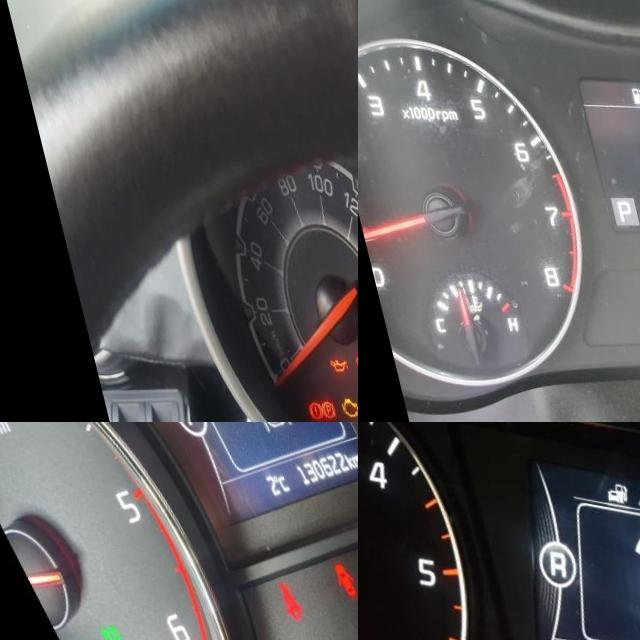Doors: (302, 561, 333, 598)
